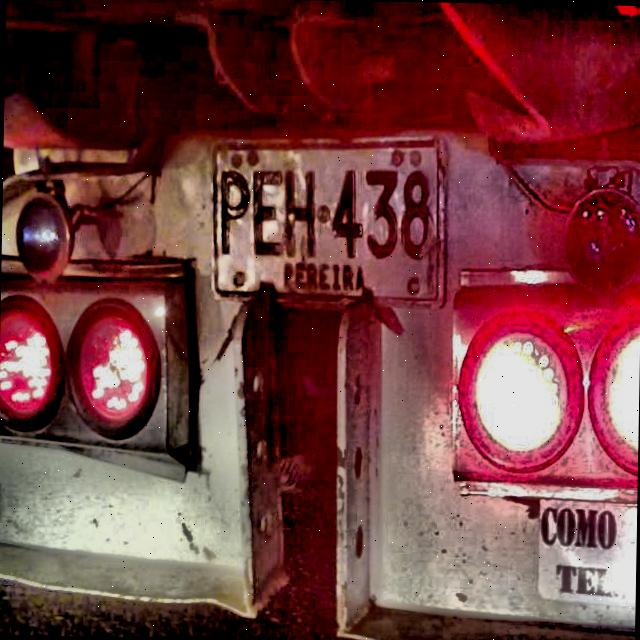3: (363, 167, 400, 260)
4: (330, 168, 366, 262)
8: (398, 169, 436, 260)
E: (250, 168, 286, 260)
H: (282, 168, 318, 258)
P: (218, 170, 250, 258)
